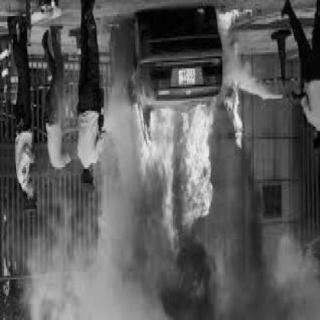Fire: (118, 3, 250, 310)
Smoke: (100, 206, 306, 320)
